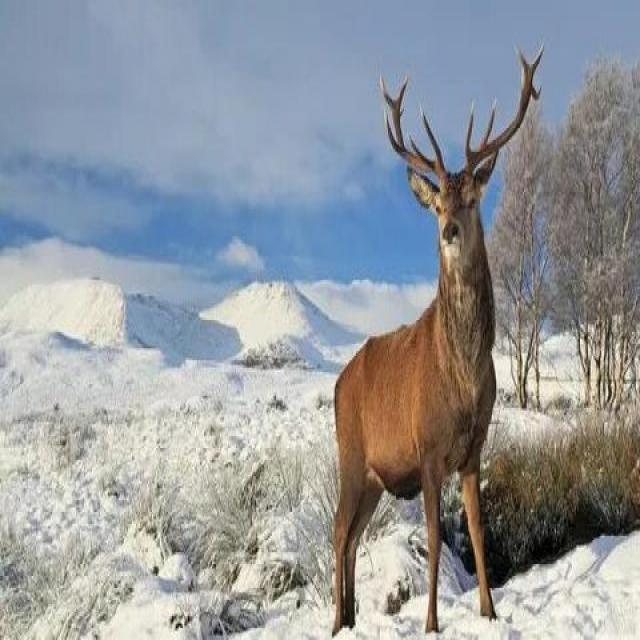deer: (287, 108, 505, 577)
